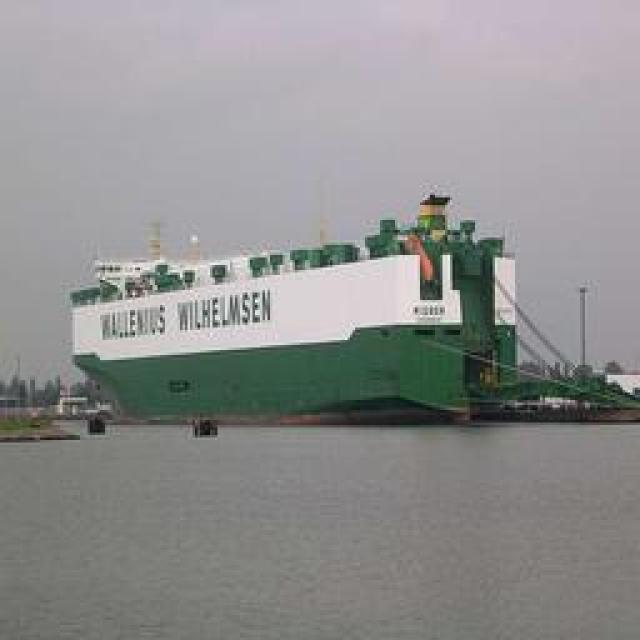CIV_Ship: (72, 200, 602, 420)
